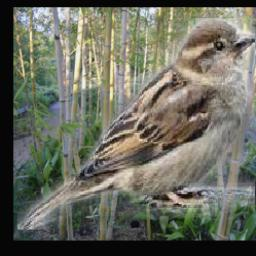Sparrow: (19, 18, 256, 230)
